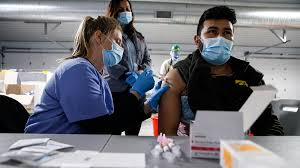with_mask: (198, 19, 234, 65), (93, 25, 124, 70), (114, 1, 133, 24)
